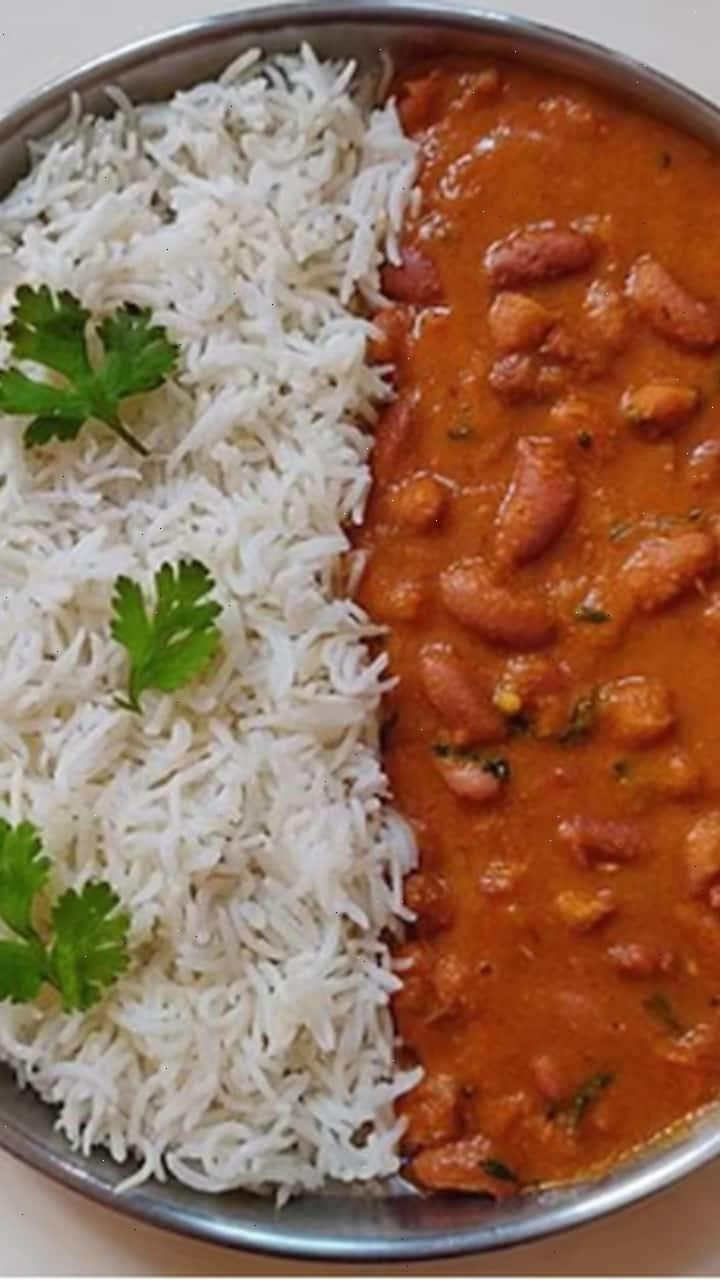rajma: (418, 108, 720, 1091)
rice: (1, 64, 396, 1256)
